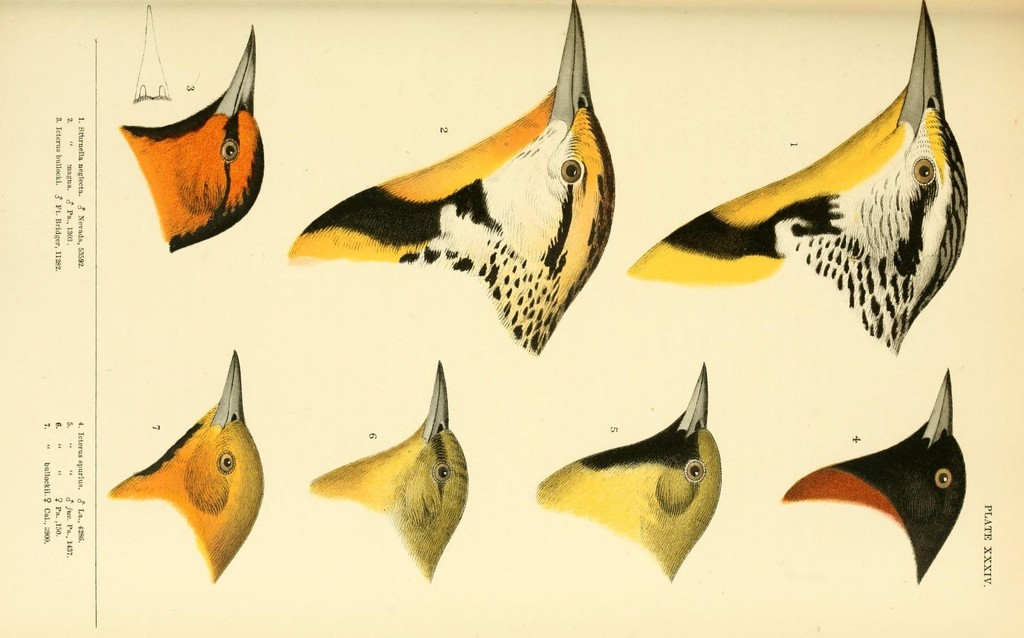Animal: (623, 0, 968, 354), (281, 0, 617, 358), (529, 360, 722, 583), (775, 367, 964, 582), (103, 349, 265, 585), (304, 358, 470, 585), (116, 24, 262, 252)
